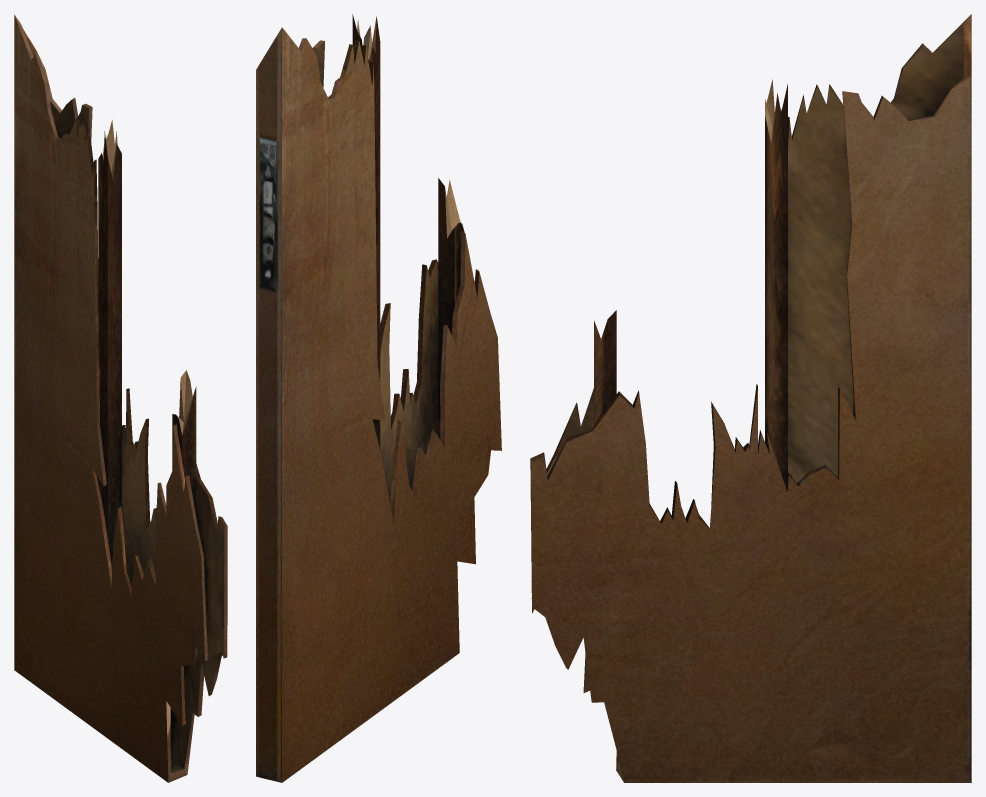
File: doordm04_01.glb
The picture shows the model from 3 angles, left to right: view 1: azimuth 30°, elevation 25°; view 2: azimuth 150°, elevation 25°; view 3: azimuth 270°, elevation 25°; orthographic projection. The views are drawn at different scales.
Visible parts, largest first — view 1: doordm04_01; view 2: doordm04_01; view 3: doordm04_01.
Part boxes in pixels (x1,y1,x2,y2): doordm04_01: [14, 14, 227, 782]; doordm04_01: [256, 14, 501, 782]; doordm04_01: [530, 14, 971, 782].
Size of the model in its own units: 0.0382 by 1.06 by 0.5601.
Materials: 1 (1 with a texture image).
